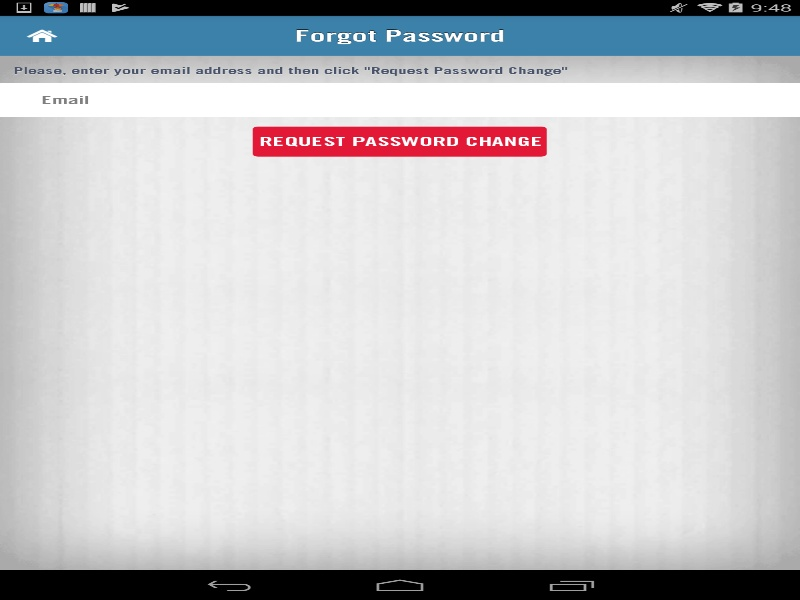Button: (252, 126, 546, 156), (0, 15, 80, 55)
Input: (21, 85, 778, 114)
